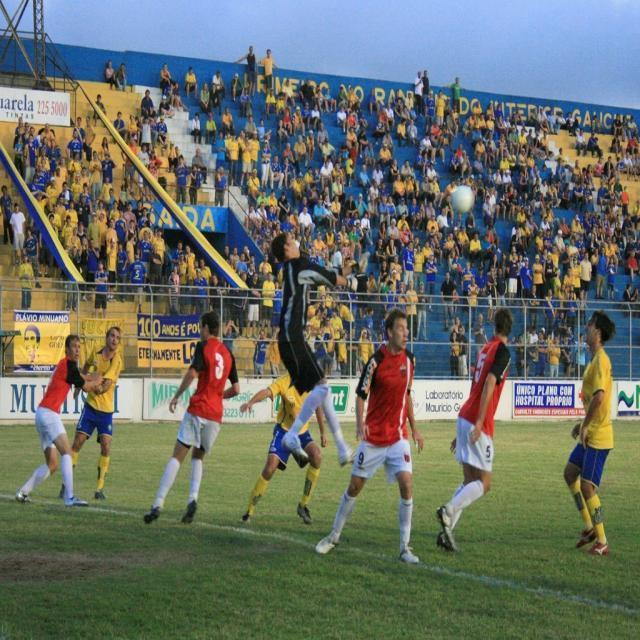ball: (452, 187, 475, 214)
